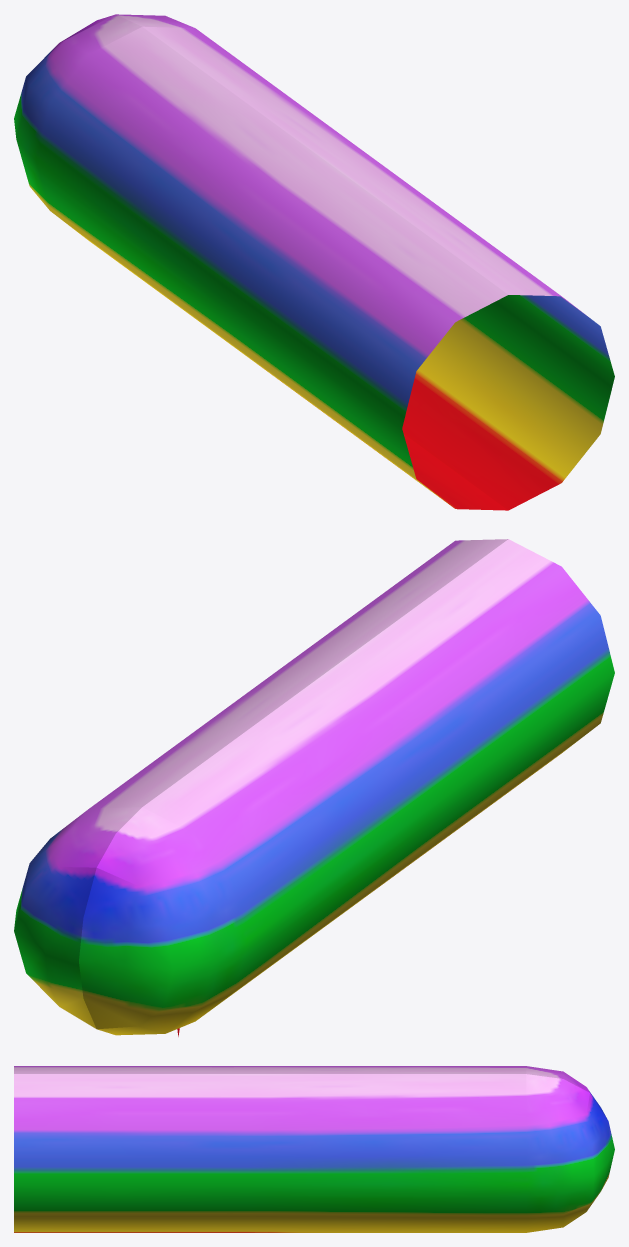
Rendered from cuerpo5.obj.
3 views of the same model, one above another, from view 1: azimuth 30°, elevation 25°; view 2: azimuth 150°, elevation 25°; view 3: azimuth 270°, elevation 25° (orthographic). The views are drawn at different scales.
Visible parts, largest first — view 1: cuerpo5; view 2: cuerpo5; view 3: cuerpo5.
Boxes of the visible parts, x1=… form: cuerpo5: x1=14, y1=14, x2=614, y2=510; cuerpo5: x1=14, y1=539, x2=614, y2=1036; cuerpo5: x1=14, y1=1066, x2=614, y2=1232.
Size of the model in its own units: 0.176 by 0.1705 by 0.6154.
